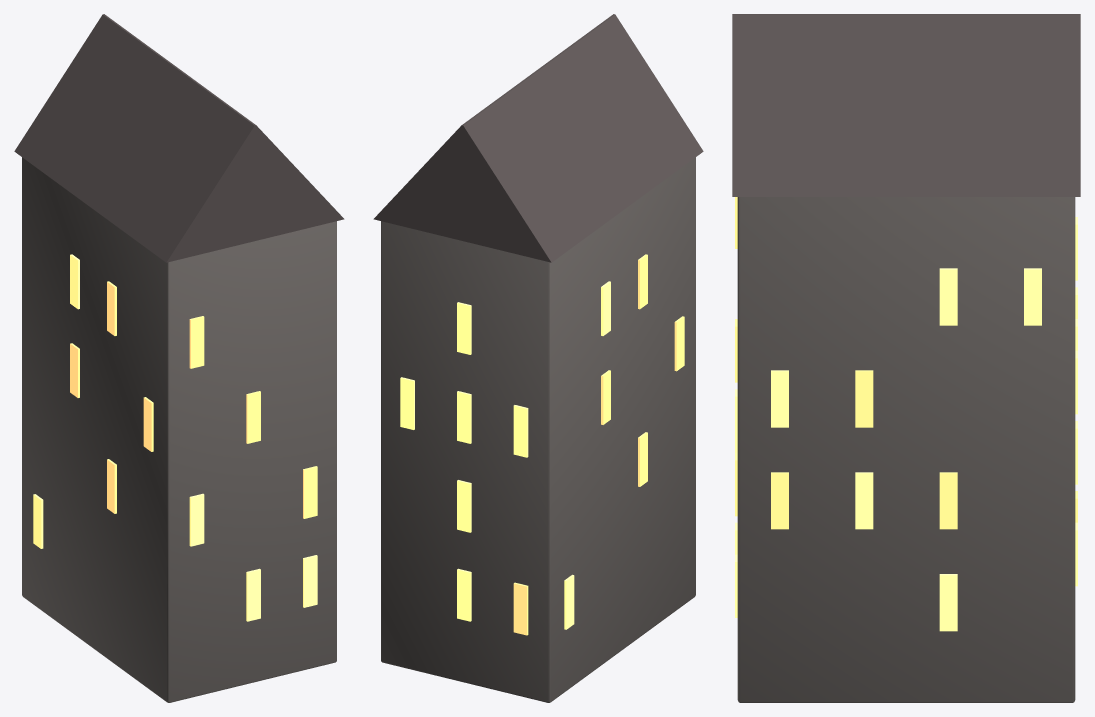
The model's file is SM_Area2_City_F.glb.
3 renders of one model, left to right at view 1: azimuth 30°, elevation 25°; view 2: azimuth 150°, elevation 25°; view 3: azimuth 270°, elevation 25°, orthographic. The views are drawn at different scales.
Parts seen in each view (by area): view 1: SM_Area2_City_F; view 2: SM_Area2_City_F; view 3: SM_Area2_City_F.
Part boxes in pixels (bbox=[...]): SM_Area2_City_F: bbox=[14, 14, 344, 702]; SM_Area2_City_F: bbox=[373, 14, 703, 702]; SM_Area2_City_F: bbox=[732, 14, 1080, 702].
Size of the model in its own units: 4.2 by 12.6 by 6.2.
